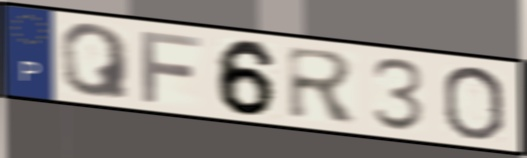3: (370, 56, 427, 133)
6: (213, 37, 283, 119)
F: (136, 27, 205, 105)
O: (440, 64, 507, 142)
Q: (58, 22, 134, 102)
R: (283, 43, 362, 125)
